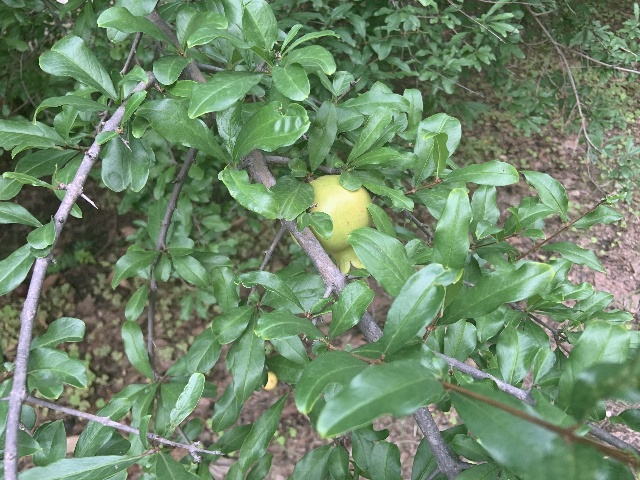mid-growth: (309, 174, 373, 273)
